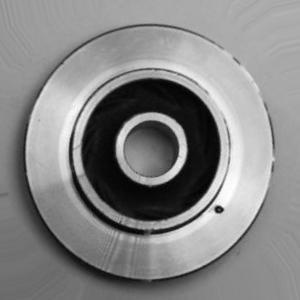pit: (208, 201, 233, 222)
scratch: (235, 52, 276, 109), (197, 84, 229, 134)
unpolished_casting: (25, 23, 276, 283)
